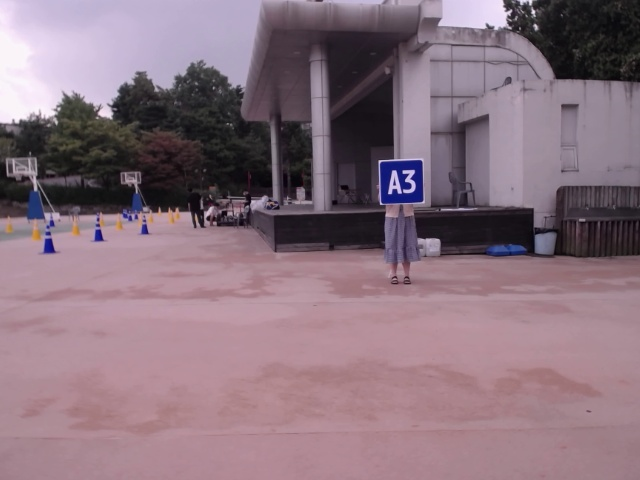delivery_a3: (379, 159, 425, 205)
